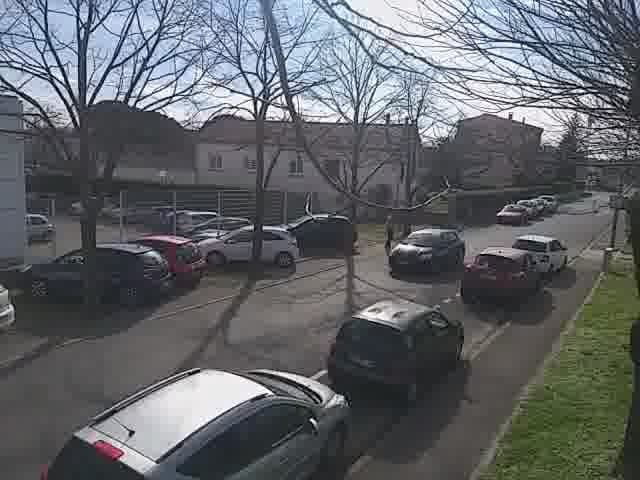persona: (379, 203, 398, 255)
